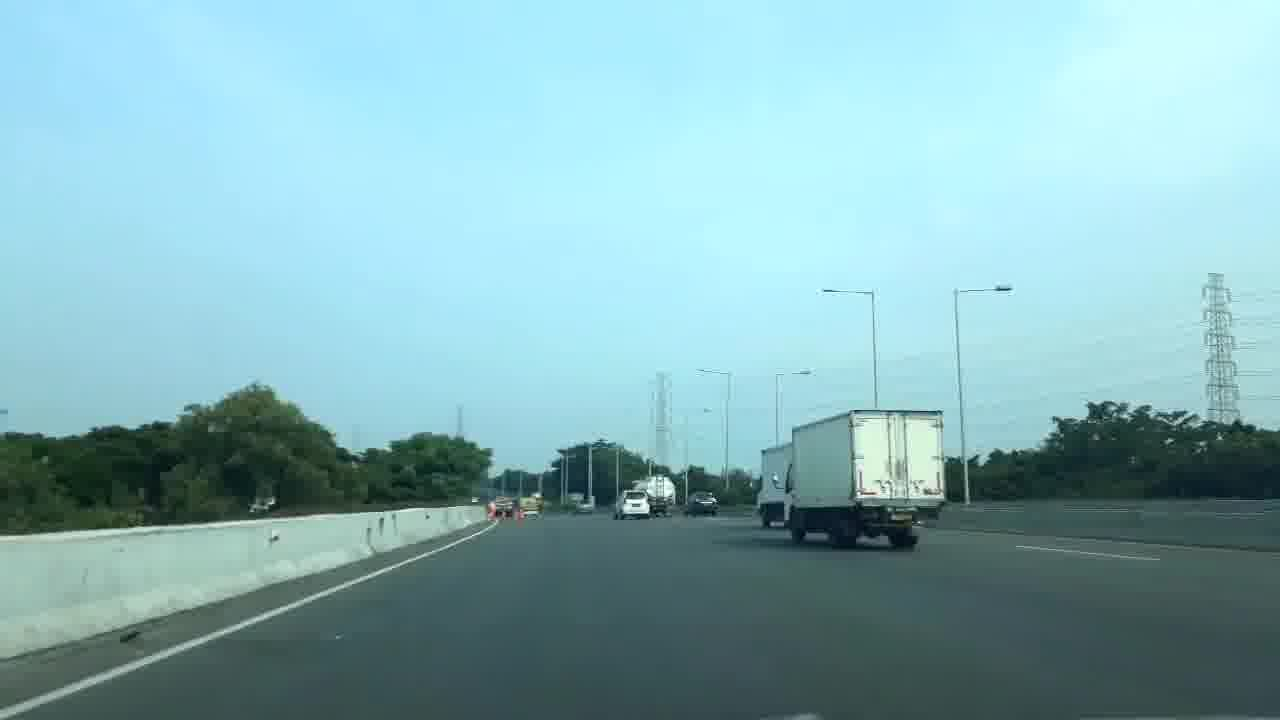plate_positive: (889, 512, 913, 521)
